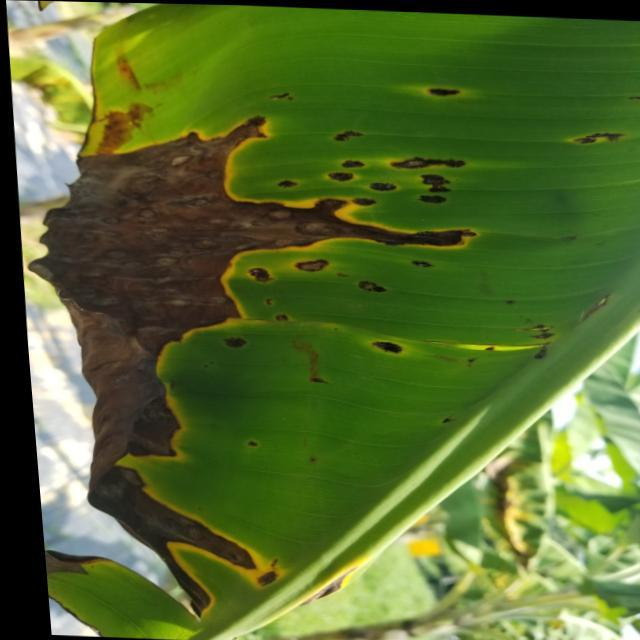Early_rust: (23, 70, 640, 613)
